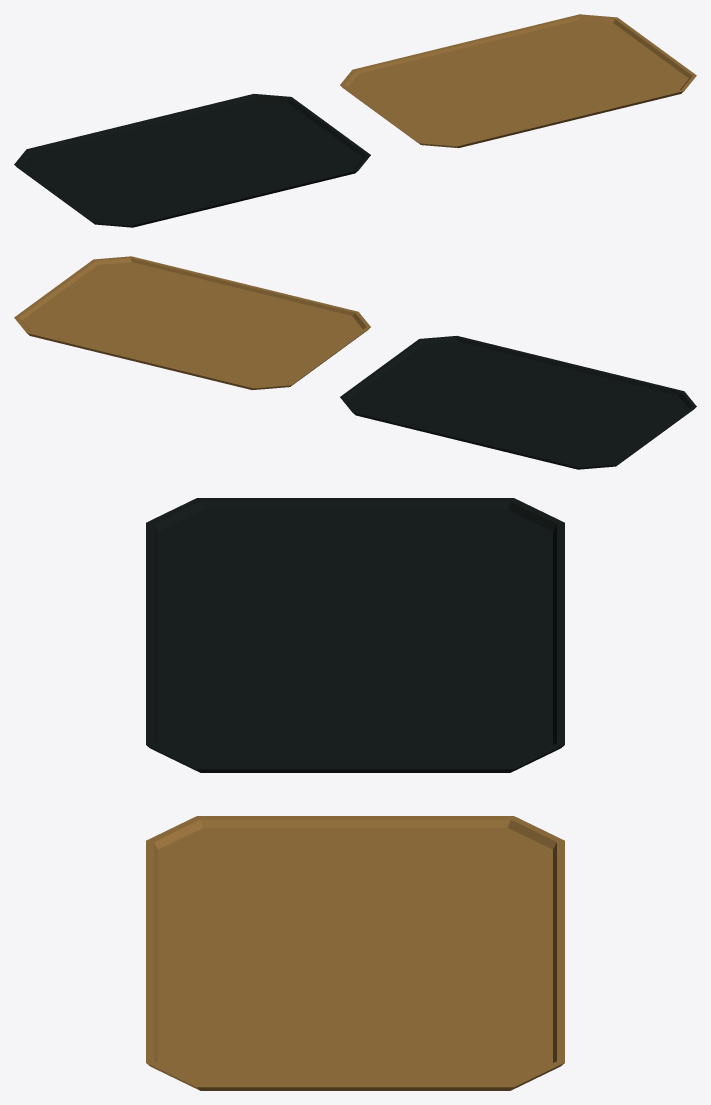
The model's file is tray.fbx.
3 renders of one model, top to bottom at view 1: azimuth 30°, elevation 25°; view 2: azimuth 150°, elevation 25°; view 3: azimuth 270°, elevation 25°, orthographic. The views are drawn at different scales.
Parts seen in each view (by area): view 1: Plane.004, Plane.005; view 2: Plane.004, Plane.005; view 3: Plane.005, Plane.004.
Part boxes in pixels (<box>): Plane.004: <box>14,94,370,227</box>; Plane.005: <box>340,14,696,148</box>; Plane.004: <box>340,336,696,469</box>; Plane.005: <box>14,256,370,390</box>; Plane.005: <box>146,816,564,1090</box>; Plane.004: <box>146,498,564,772</box>.
Size of the model in its own units: 147 by 0.7033 by 44.24.
